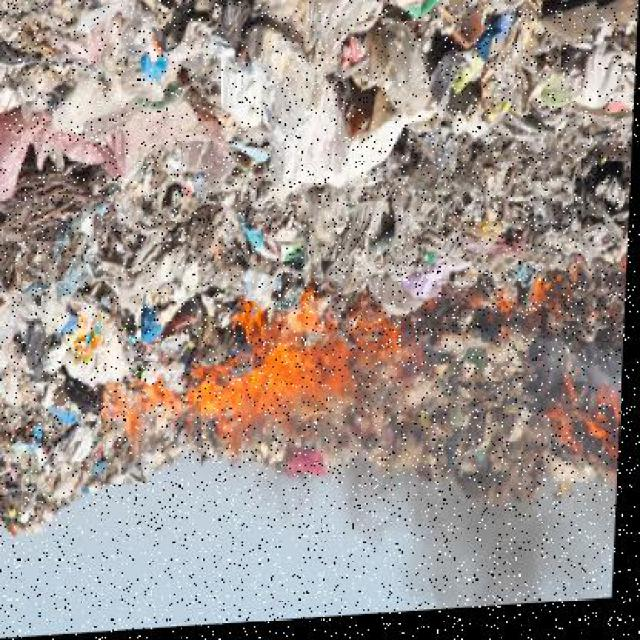fire: (178, 293, 455, 492)
